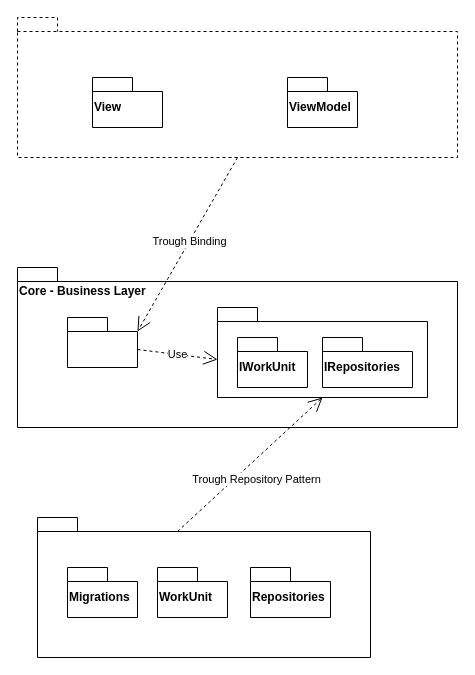
Image size: 475x675. Some labels were removed from this diagram. The box of each missing label's shape, as (x1, y1, x2, y2) in pixels:
IStorage: (216, 306, 428, 398)
Model: (66, 316, 138, 368)
Presentation Layer using WPF: (16, 16, 458, 158)
Storage - Data Layer using EF6: (36, 516, 370, 658)
